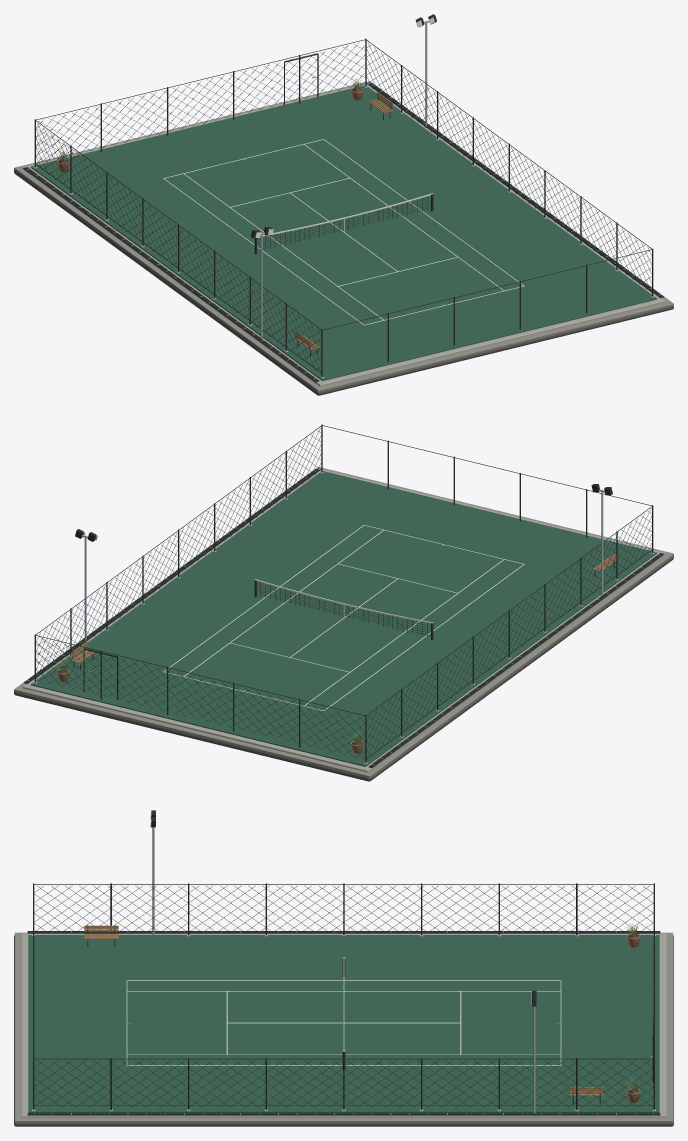
The model's file is tennis-CApgK-mE.glb.
The picture shows the model from 3 angles, top to bottom: view 1: azimuth 30°, elevation 25°; view 2: azimuth 150°, elevation 25°; view 3: azimuth 270°, elevation 25°; orthographic projection. The views are drawn at different scales.
Parts seen in each view (by area): view 1: phase_finish__court, phase_details__graphite, phase_foundation__gravel, phase_foundation__concrete, phase_site__soil, phase_finish__graphite, phase_envelope__graphite, phase_finish__white, phase_structure__metal; view 2: phase_finish__court, phase_details__graphite, phase_foundation__gravel, phase_foundation__concrete, phase_site__soil, phase_finish__graphite, phase_envelope__graphite, phase_finish__white, phase_structure__metal; view 3: phase_finish__court, phase_details__graphite, phase_foundation__gravel, phase_foundation__concrete, phase_finish__graphite, phase_site__soil, phase_finish__white, phase_envelope__graphite, phase_details__HF_teak.001, phase_structure__metal.
Boxes of the visible parts, x1,y1,x2,y2 form: phase_finish__court: [31, 85, 656, 380]; phase_details__graphite: [35, 14, 652, 372]; phase_foundation__gravel: [14, 81, 673, 392]; phase_foundation__concrete: [22, 83, 665, 386]; phase_site__soil: [14, 169, 673, 395]; phase_finish__graphite: [23, 83, 663, 382]; phase_envelope__graphite: [34, 38, 653, 377]; phase_finish__white: [163, 139, 524, 325]; phase_structure__metal: [260, 21, 427, 338]; phase_finish__court: [31, 471, 656, 766]; phase_details__graphite: [36, 425, 652, 759]; phase_foundation__gravel: [14, 467, 673, 777]; phase_foundation__concrete: [22, 468, 665, 772]; phase_site__soil: [14, 555, 673, 781]; phase_finish__graphite: [23, 469, 663, 767]; phase_envelope__graphite: [34, 424, 653, 762]; phase_finish__white: [163, 525, 524, 711]; phase_structure__metal: [84, 489, 603, 642]; phase_finish__court: [28, 935, 659, 1112]; phase_details__graphite: [33, 810, 654, 1107]; phase_foundation__gravel: [14, 932, 673, 1122]; phase_foundation__concrete: [21, 933, 666, 1117]; phase_finish__graphite: [27, 931, 660, 1115]; phase_site__soil: [14, 935, 673, 1126]; phase_finish__white: [126, 980, 561, 1065]; phase_envelope__graphite: [33, 883, 654, 1109]; phase_details__HF_teak.001: [84, 925, 603, 1095]; phase_structure__metal: [152, 827, 535, 1113].
Bounding box in the file's own units: 8.63 × 2.73 × 12.65.
12 materials, 2 textured.
